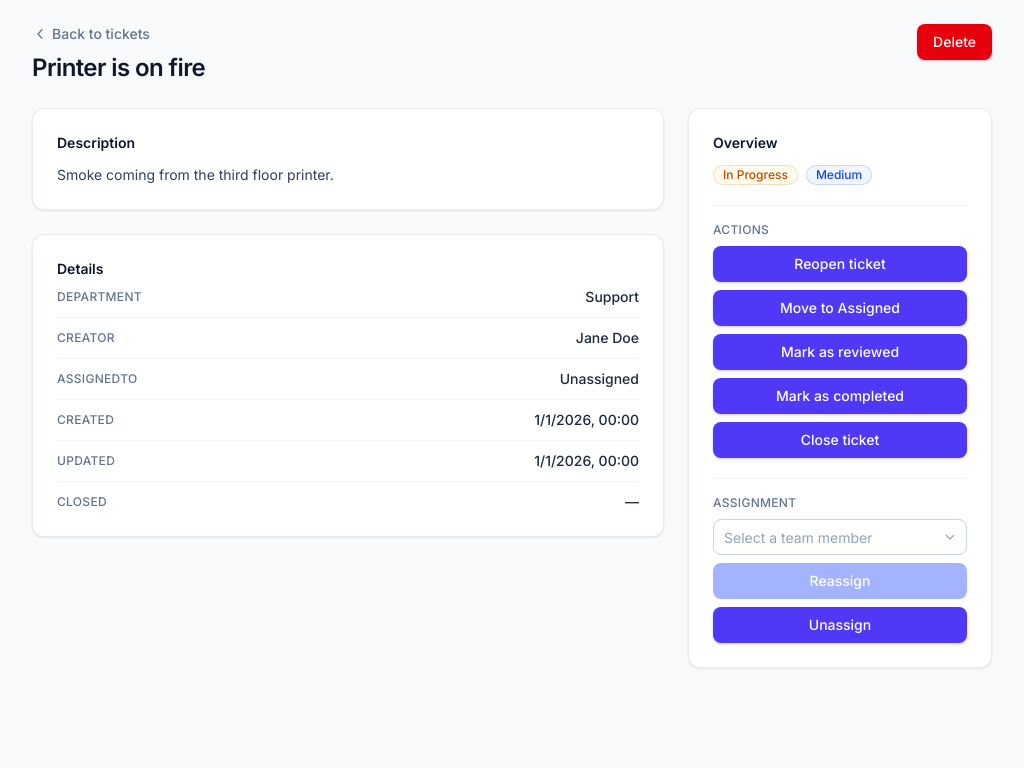
it: TicketDetailsPage › shows an error toast and closes the dialog when deletion fails
Expected: the heading "Printer is on fire" is shown, [32, 52, 205, 84]
Click the button "Delete" at (955,42), box [917, 24, 992, 60]
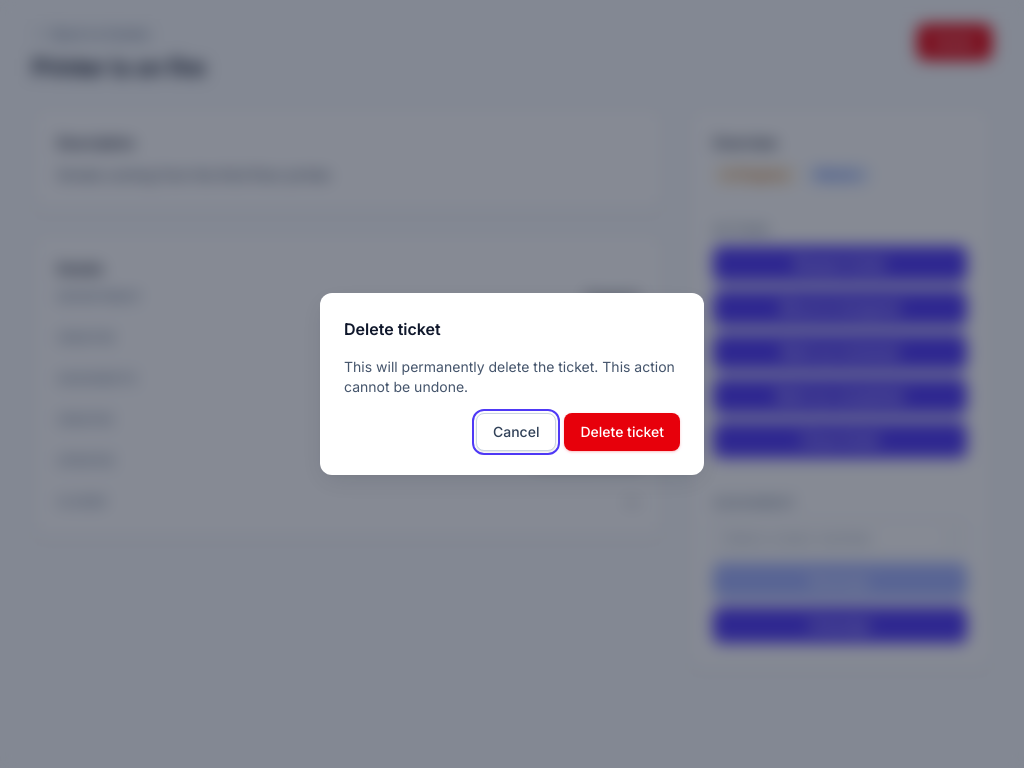
Click the button "Delete ticket" at (622,432), box [564, 413, 680, 451]
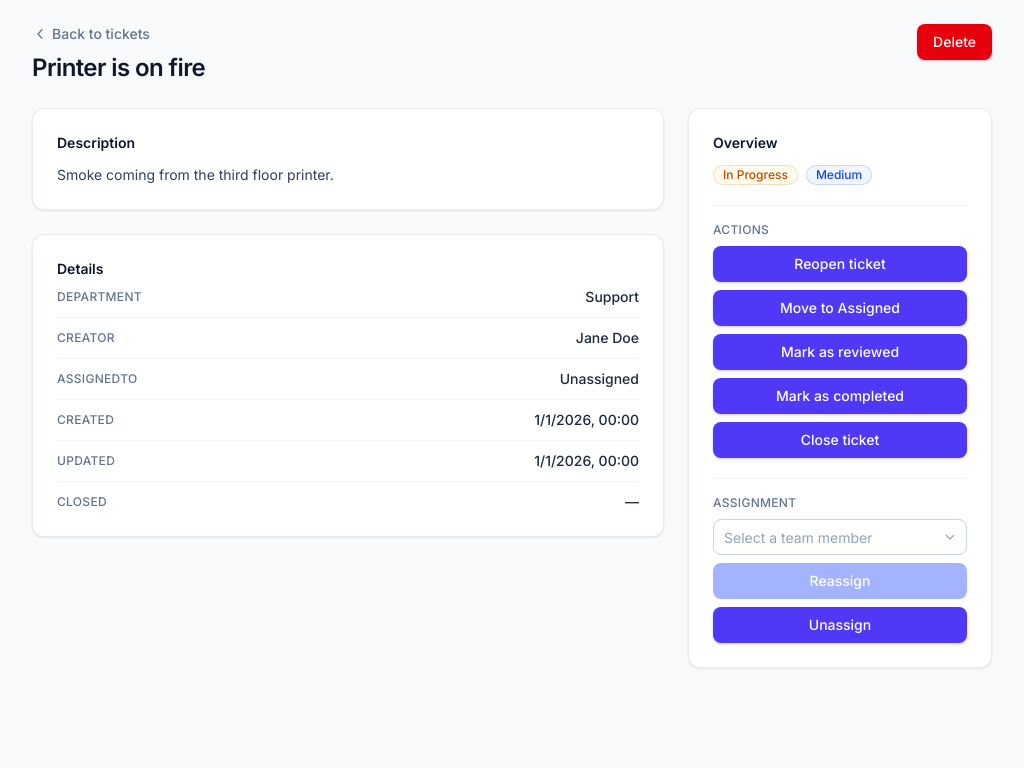
Expected: the dialog is gone
